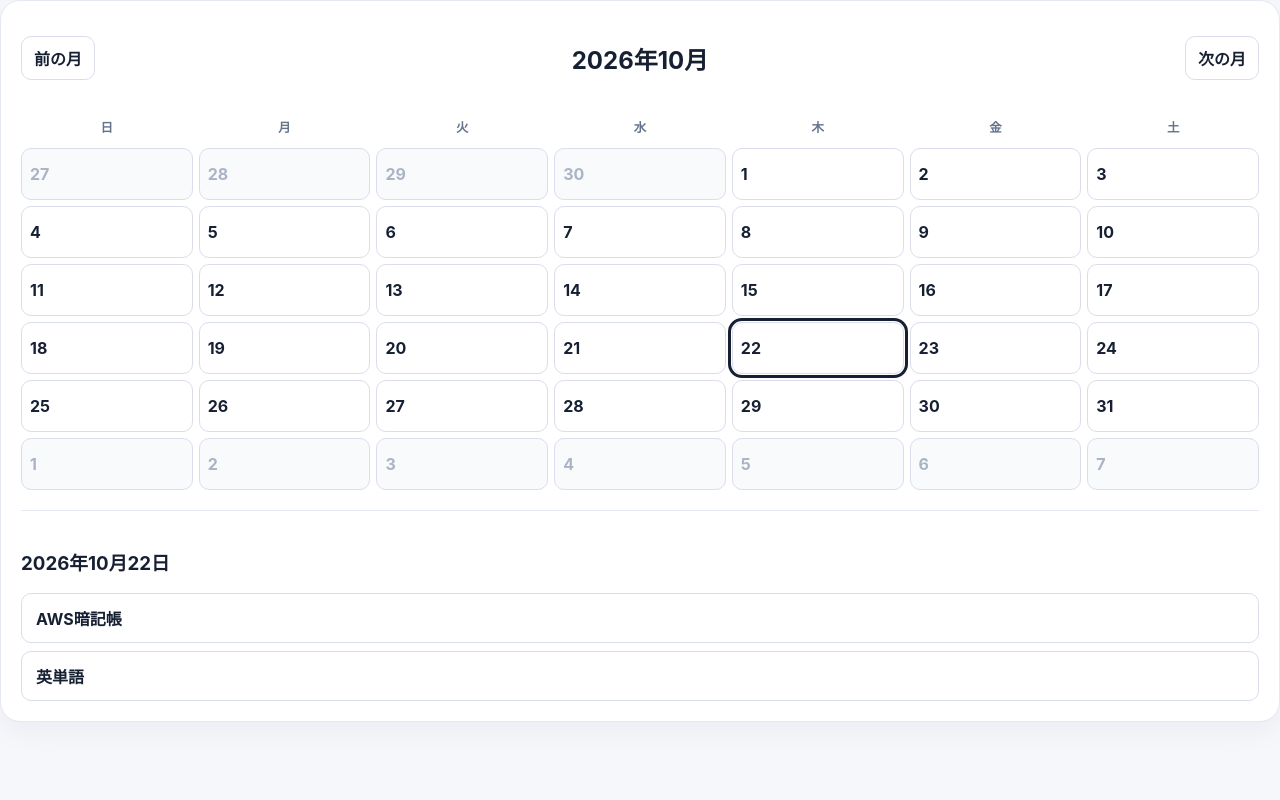
Scenario: CalendarView › moves between months
This screenshot has width=1280, height=800.
Click the button "次の月": (1222, 58) [1185,36,1259,80]
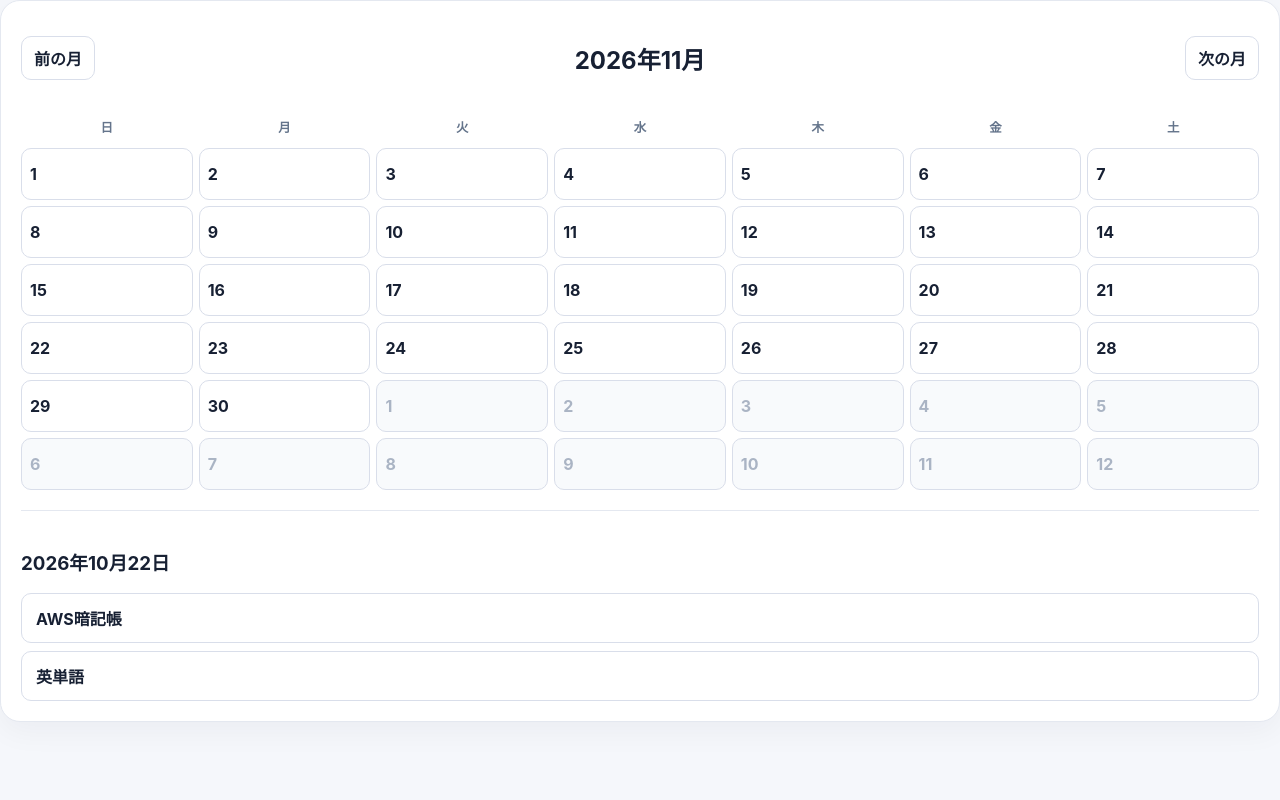
Expected: the heading "2026年11月" is shown, [575,41,705,76]
